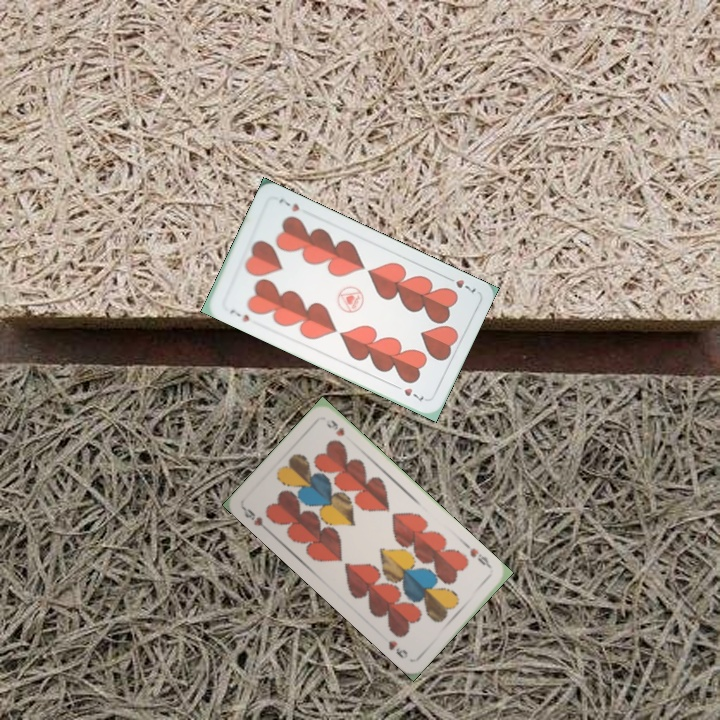H7: (441, 272, 479, 295), (225, 305, 252, 324)
H9: (239, 504, 273, 535), (462, 540, 494, 571)
